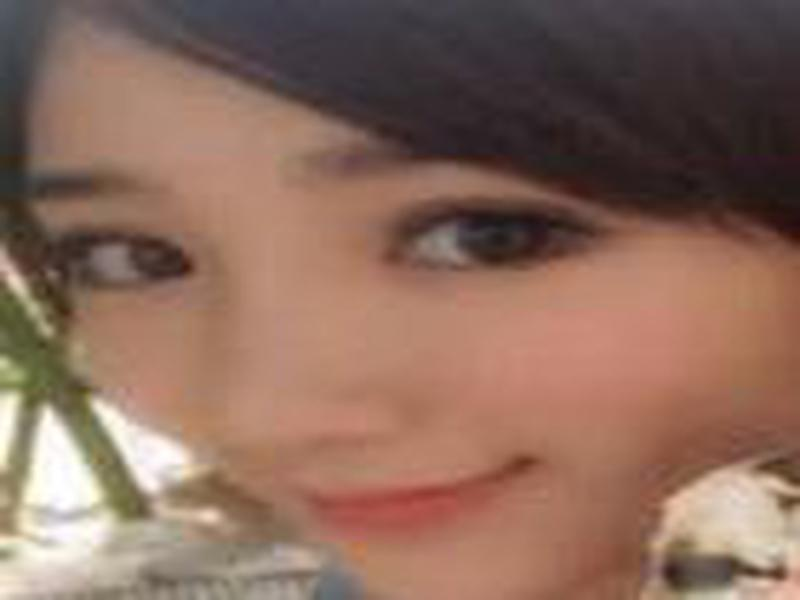without_mask: (12, 44, 727, 597)
